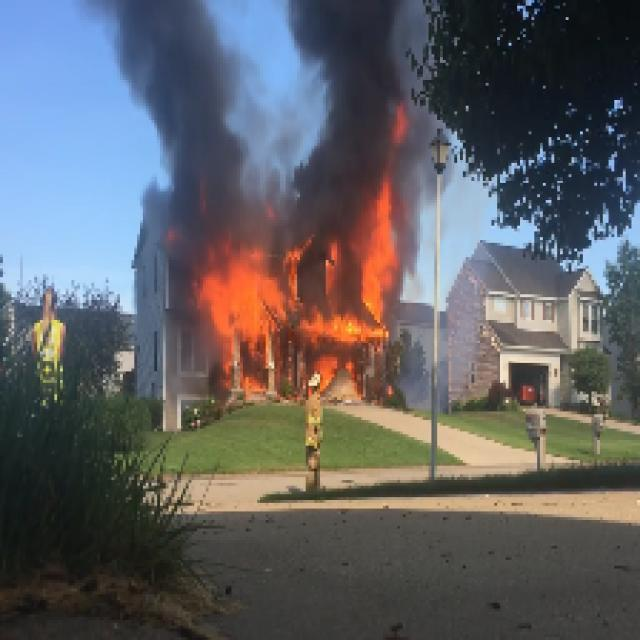Fire: (174, 98, 407, 426)
Smoke: (105, 6, 421, 228)
